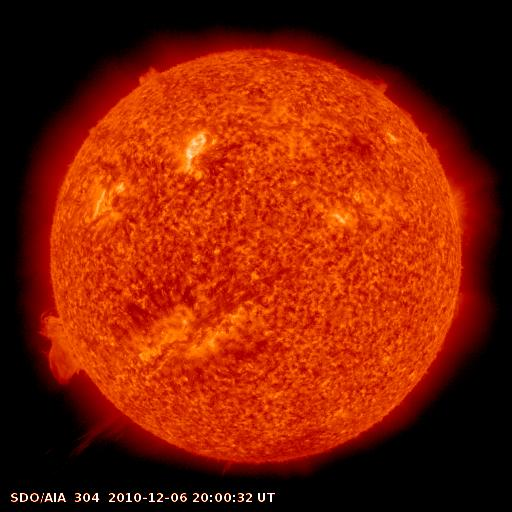prominence: (62, 402, 141, 461), (32, 304, 89, 384), (352, 59, 401, 100), (129, 51, 171, 94)
